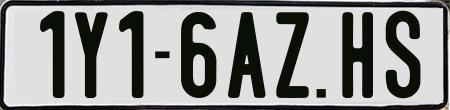1: (39, 10, 70, 102), (118, 11, 146, 102)
6: (181, 11, 221, 100)
A: (225, 10, 264, 99)
H: (342, 11, 373, 97)
S: (384, 10, 420, 100)
Y: (73, 9, 109, 95)
Z: (274, 10, 312, 97)
